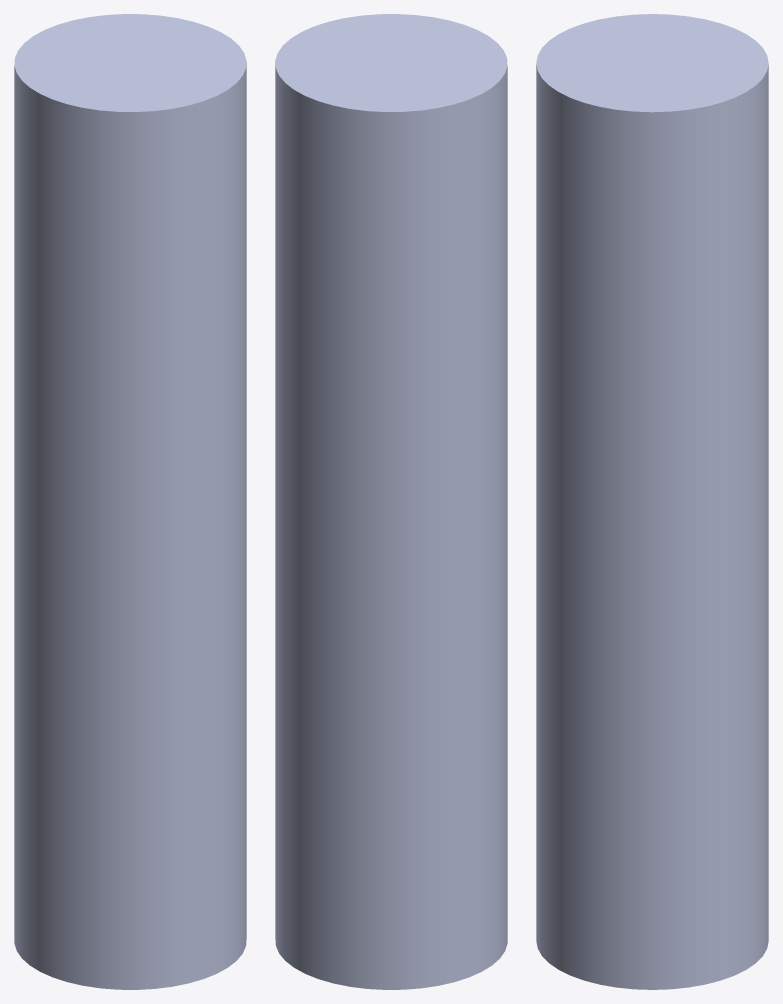
The model's file is clamp pin.gltf.
3 renders of one model, left to right at view 1: azimuth 30°, elevation 25°; view 2: azimuth 150°, elevation 25°; view 3: azimuth 270°, elevation 25°, orthographic.
Parts seen in each view (by area): view 1: clamp pin; view 2: clamp pin; view 3: clamp pin.
Boxes of the visible parts, left/top/right/bottom form: clamp pin: left=14, top=14, right=246, bottom=989; clamp pin: left=275, top=14, right=507, bottom=989; clamp pin: left=536, top=14, right=768, bottom=989.
Bounding box in the file's own units: 0.0048 × 0.02 × 0.0048.
